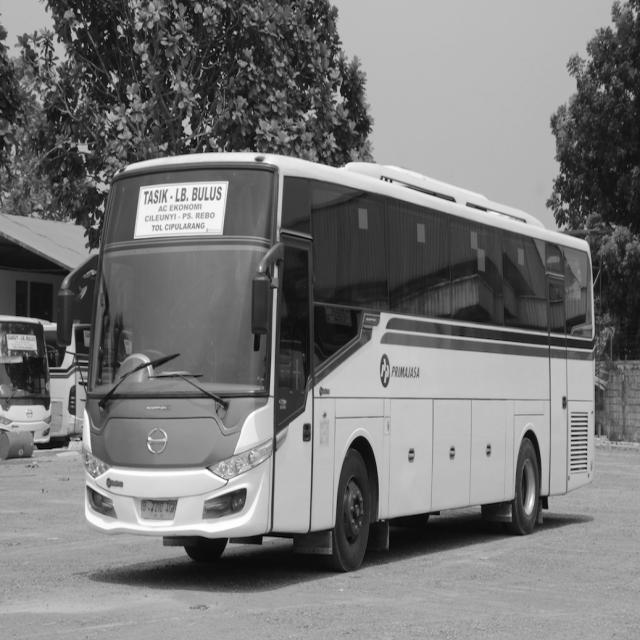Bus: (58, 152, 597, 570)
